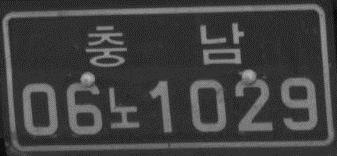0: (186, 76, 230, 134), (20, 79, 59, 138)
1: (146, 78, 177, 136)
2: (233, 76, 274, 134)
6: (63, 79, 105, 138)
9: (279, 73, 320, 134)
노: (105, 84, 142, 131)
충남_D: (83, 18, 246, 71)
